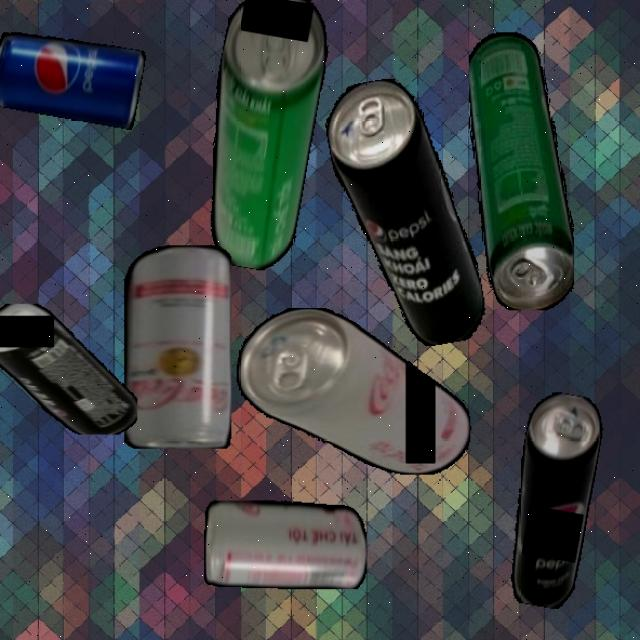debris: (320, 69, 490, 357), (187, 0, 336, 275), (237, 307, 471, 475), (468, 32, 574, 310), (497, 389, 608, 611), (124, 246, 232, 448), (0, 303, 137, 434), (0, 27, 146, 130), (204, 500, 366, 589)
